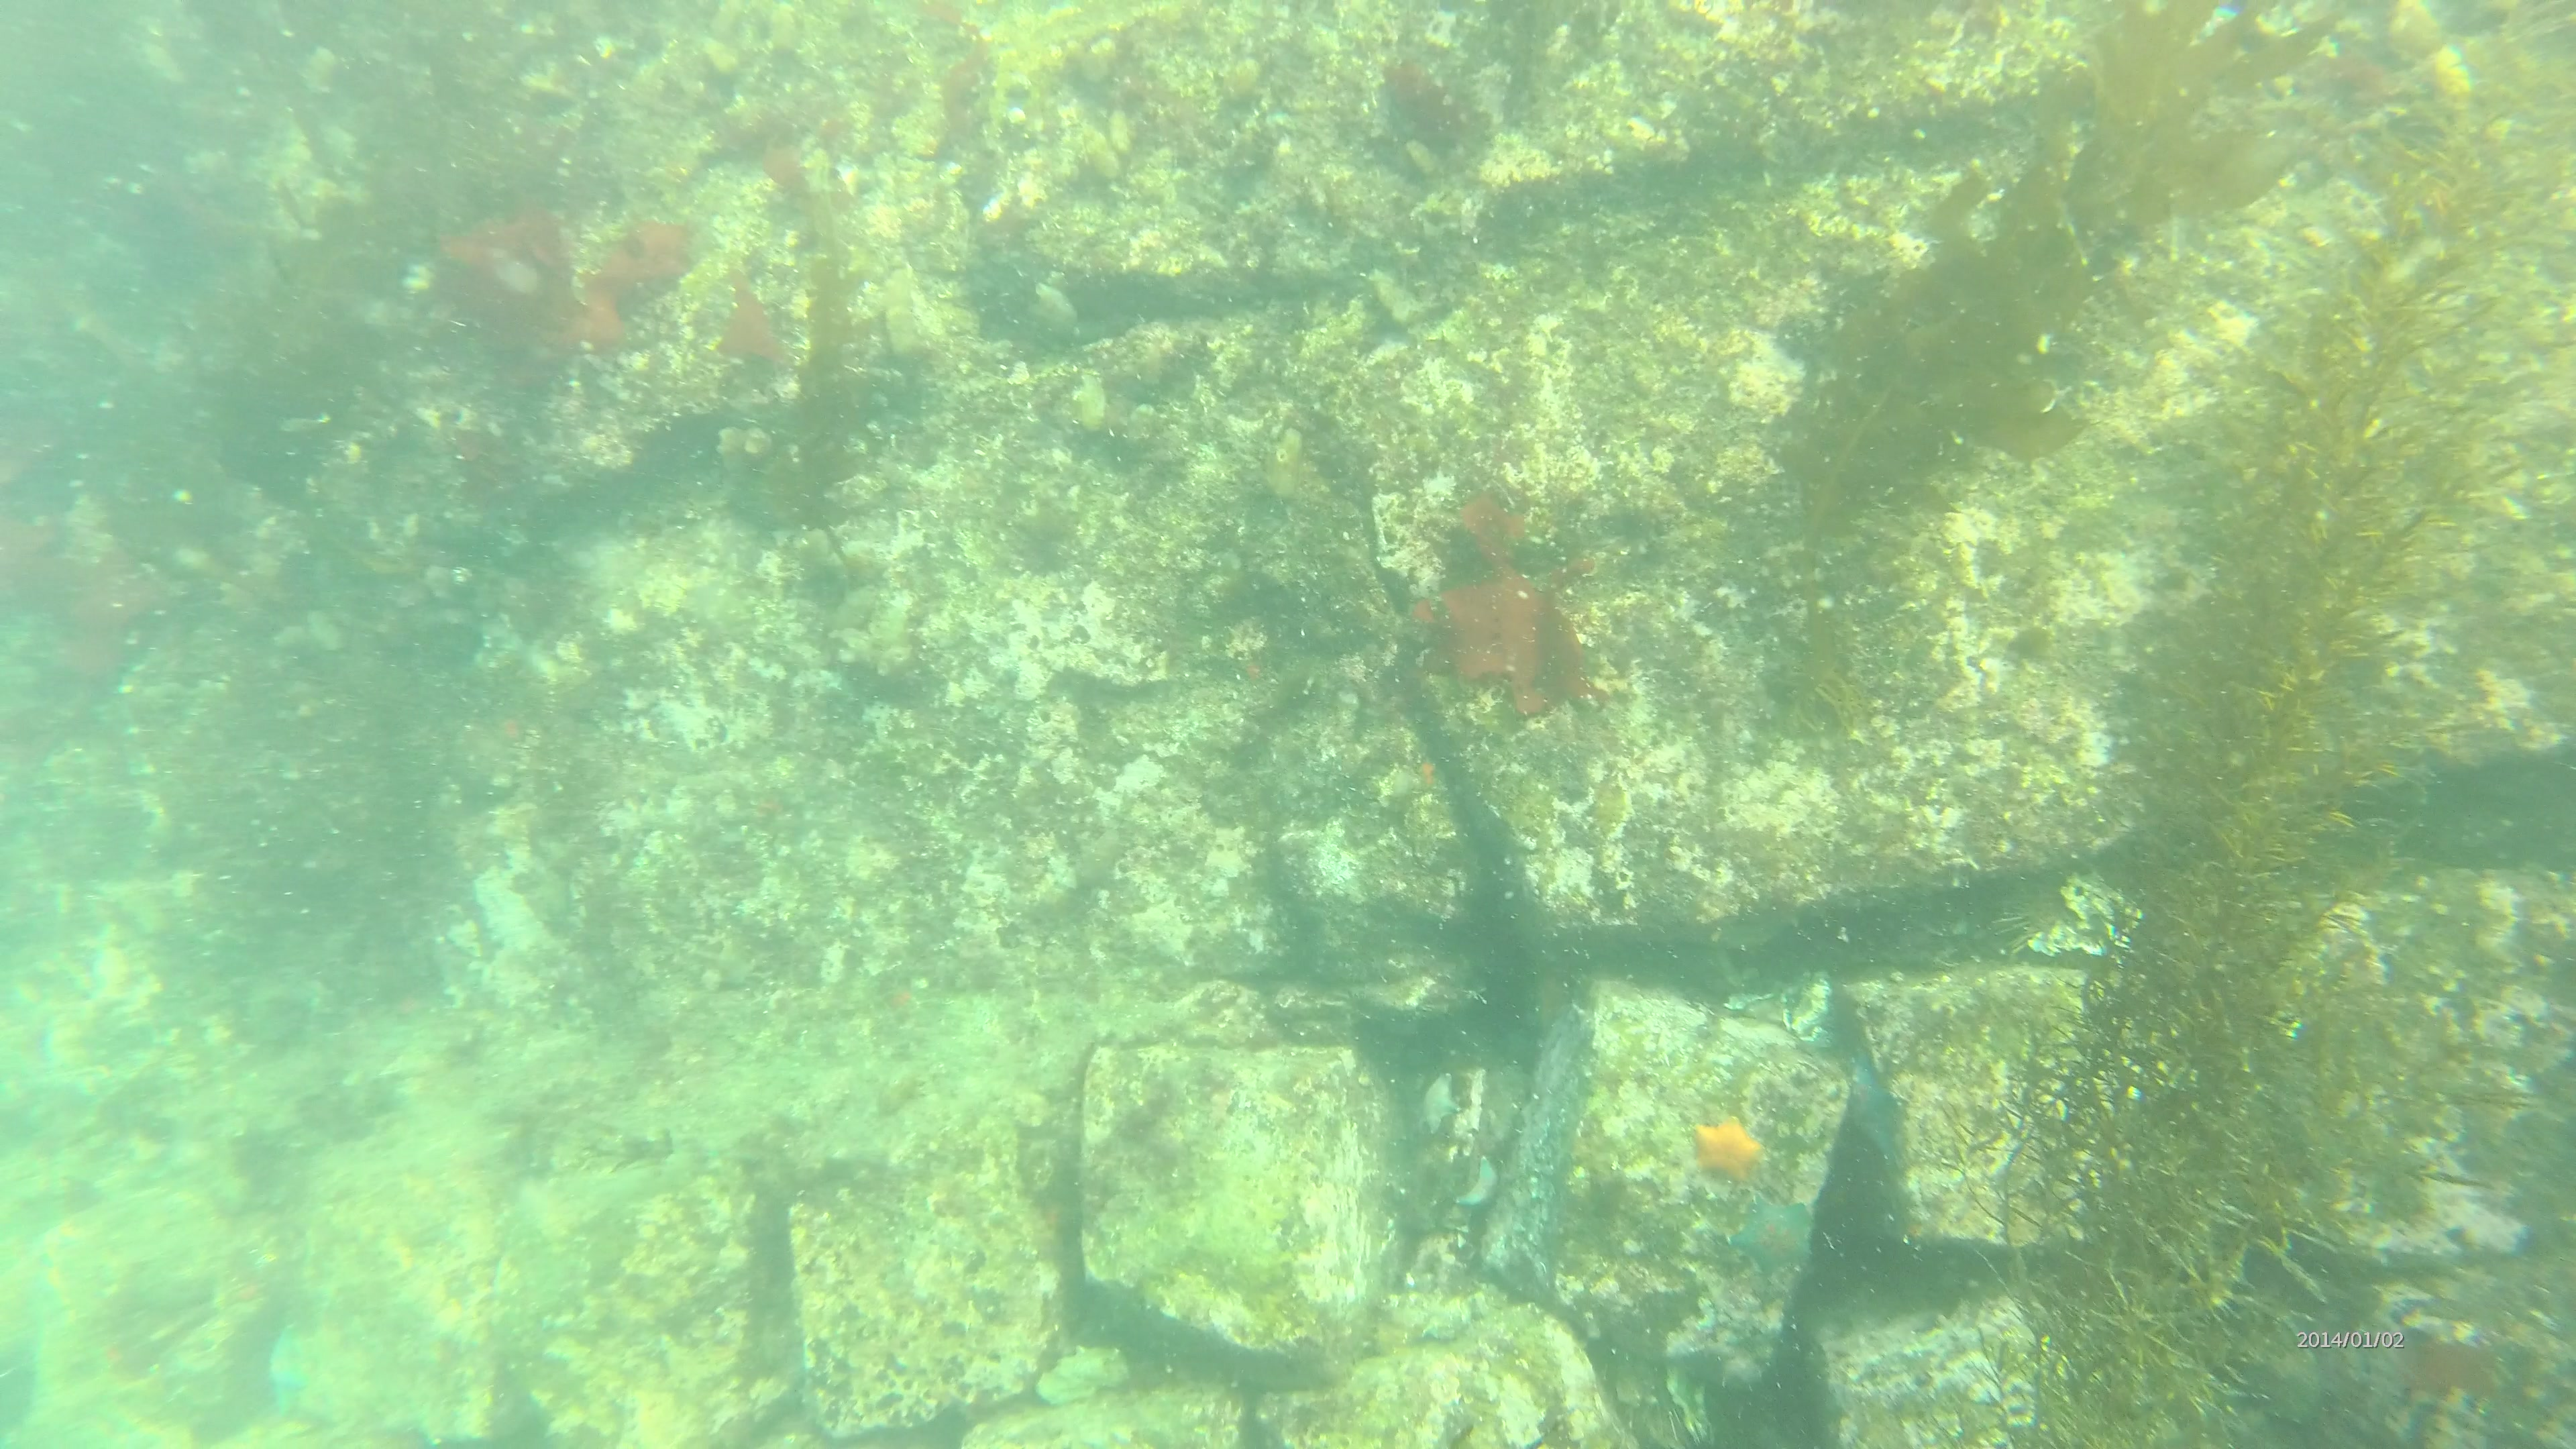starfish: (1833, 1047, 1918, 1168), (1732, 1196, 1821, 1279), (253, 1327, 318, 1414), (1698, 1111, 1767, 1187), (1449, 1154, 1506, 1224), (1410, 1077, 1463, 1138)
